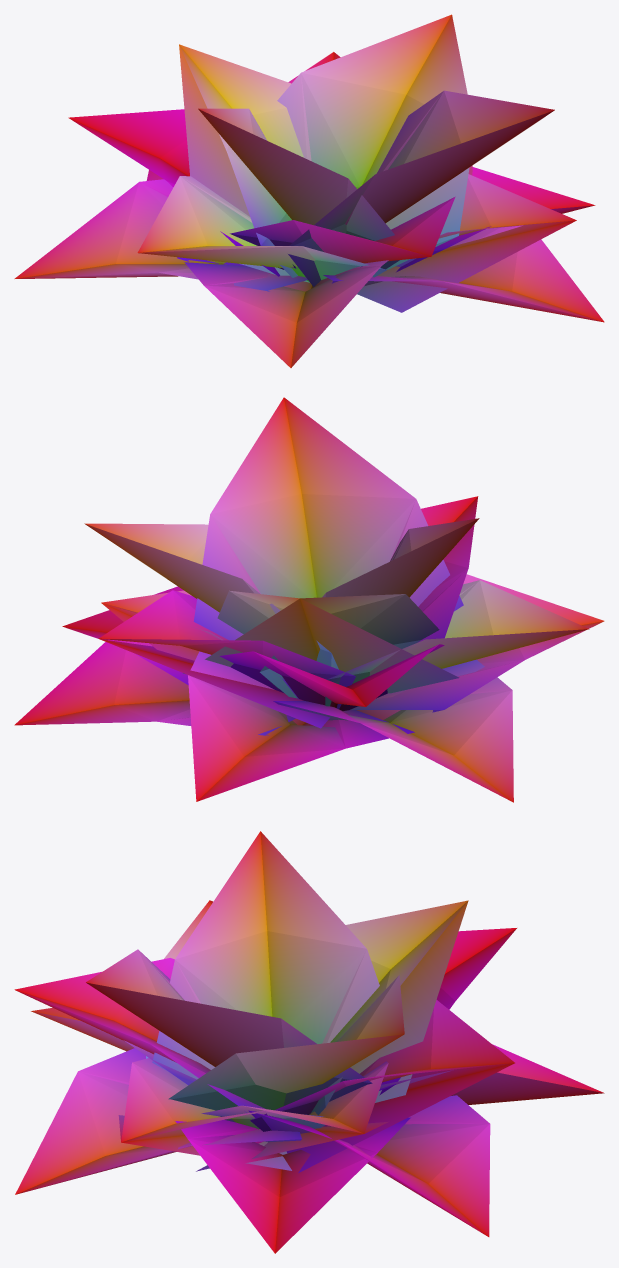
File: broadfern_centered_a.dae
3 views of the same model, one above another, from view 1: azimuth 30°, elevation 25°; view 2: azimuth 150°, elevation 25°; view 3: azimuth 270°, elevation 25° (orthographic). The views are drawn at different scales.
Visible parts, largest first — view 1: broadfern64, broadfern8; view 2: broadfern64, broadfern8; view 3: broadfern64, broadfern8.
Boxes of the visible parts, left/top/right/bottom form: broadfern64: left=14, top=14, right=604, bottom=367; broadfern8: left=22, top=45, right=603, bottom=322; broadfern64: left=14, top=397, right=604, bottom=802; broadfern8: left=84, top=499, right=589, bottom=748; broadfern64: left=14, top=831, right=603, bottom=1253; broadfern8: left=17, top=901, right=604, bottom=1233.
Bounding box in the file's own units: 2.25 × 2.11 × 1.
